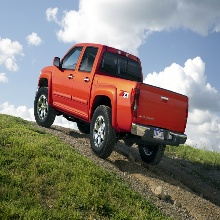no damage: (33, 43, 190, 165)
